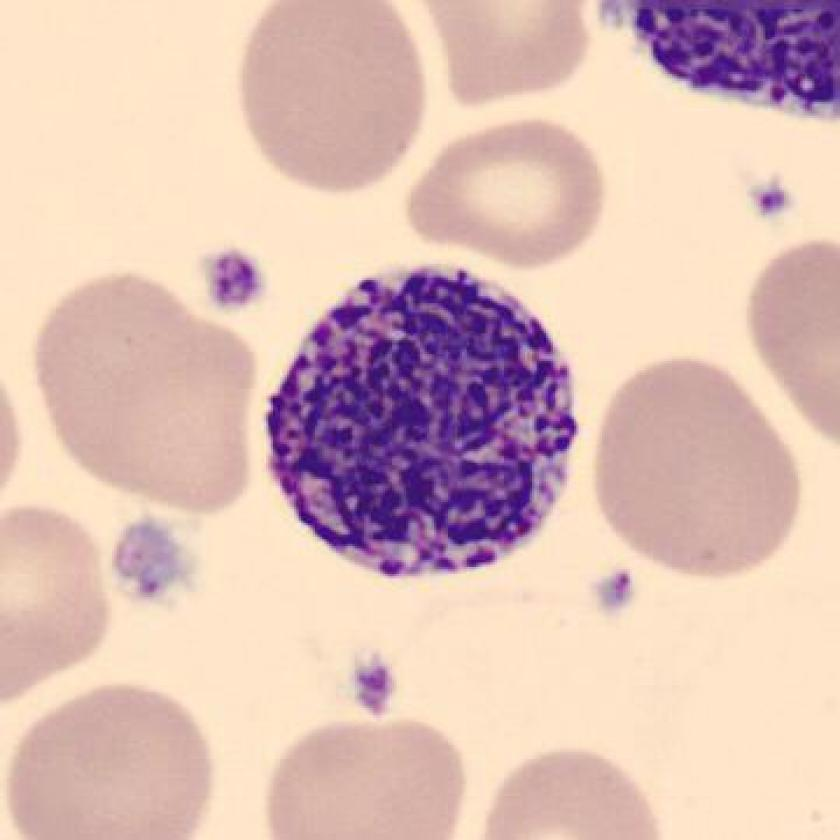basophil: (256, 253, 599, 591), (614, 1, 840, 135)
